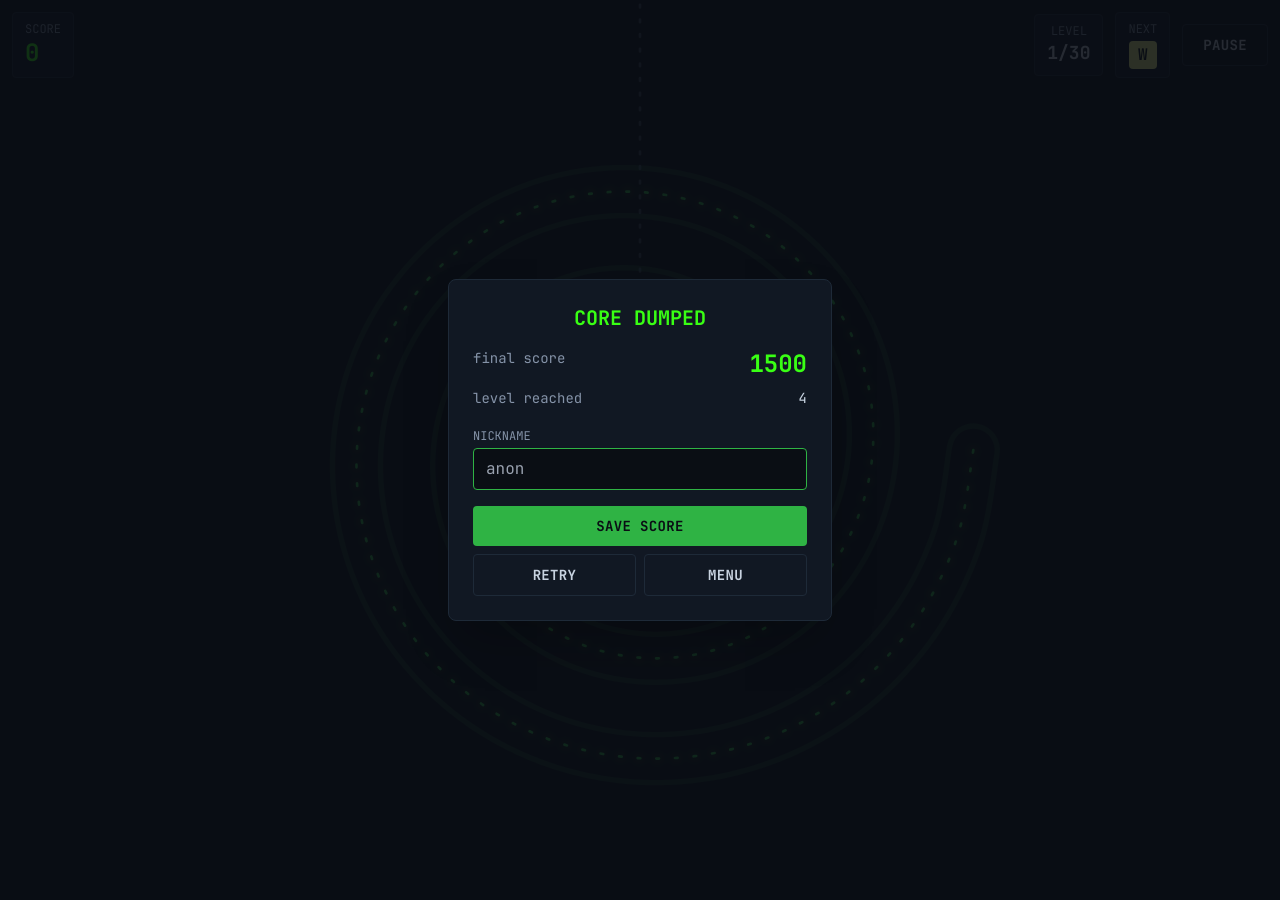
Test: GameScreen › saving the score › reports a failed save instead of pretending it worked
Type "neo" into the field labelled "nickname" at {"x": 640, "y": 469}, box [473,448,807,490]
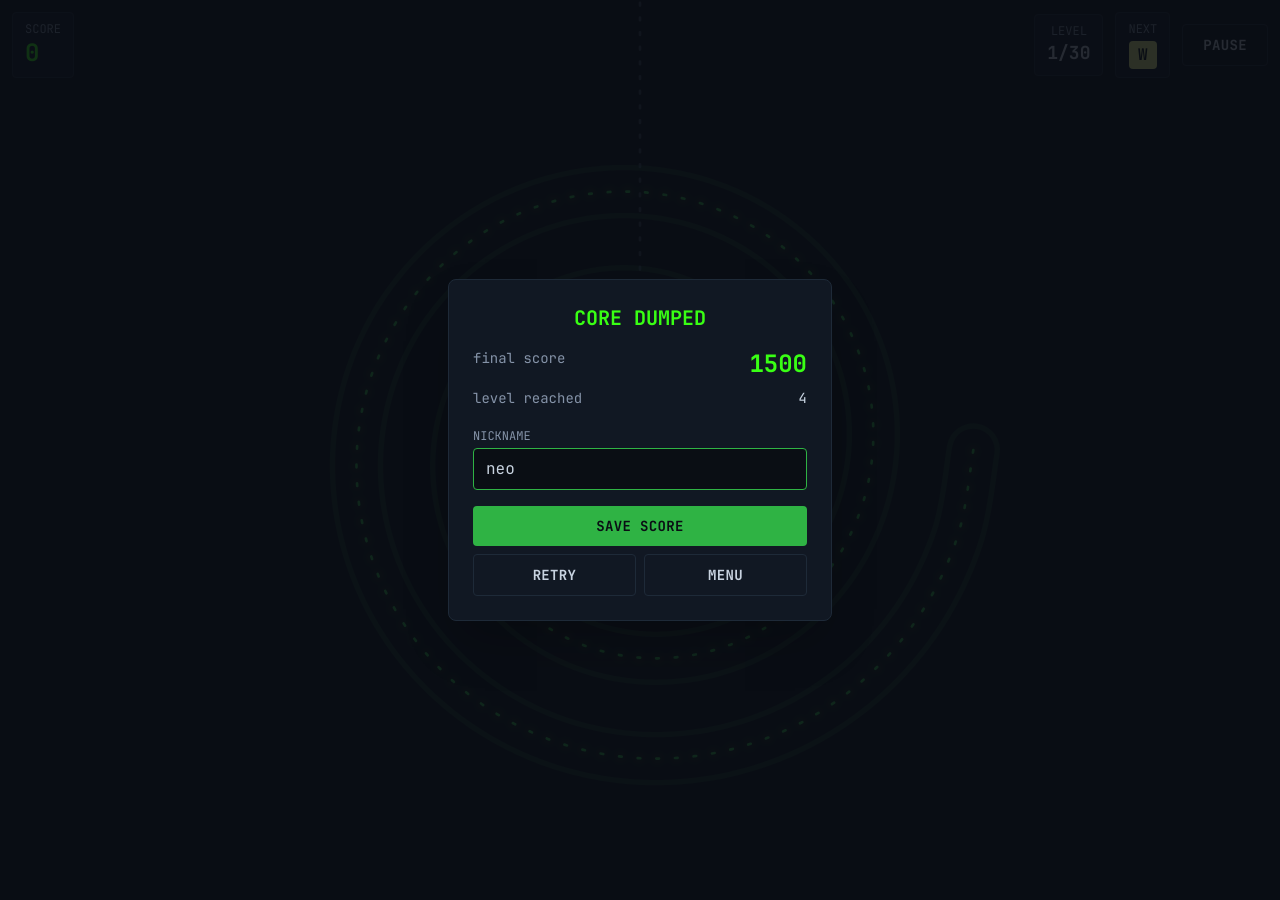
Click the button "Save score" at {"x": 640, "y": 526}, box [473,506,807,546]
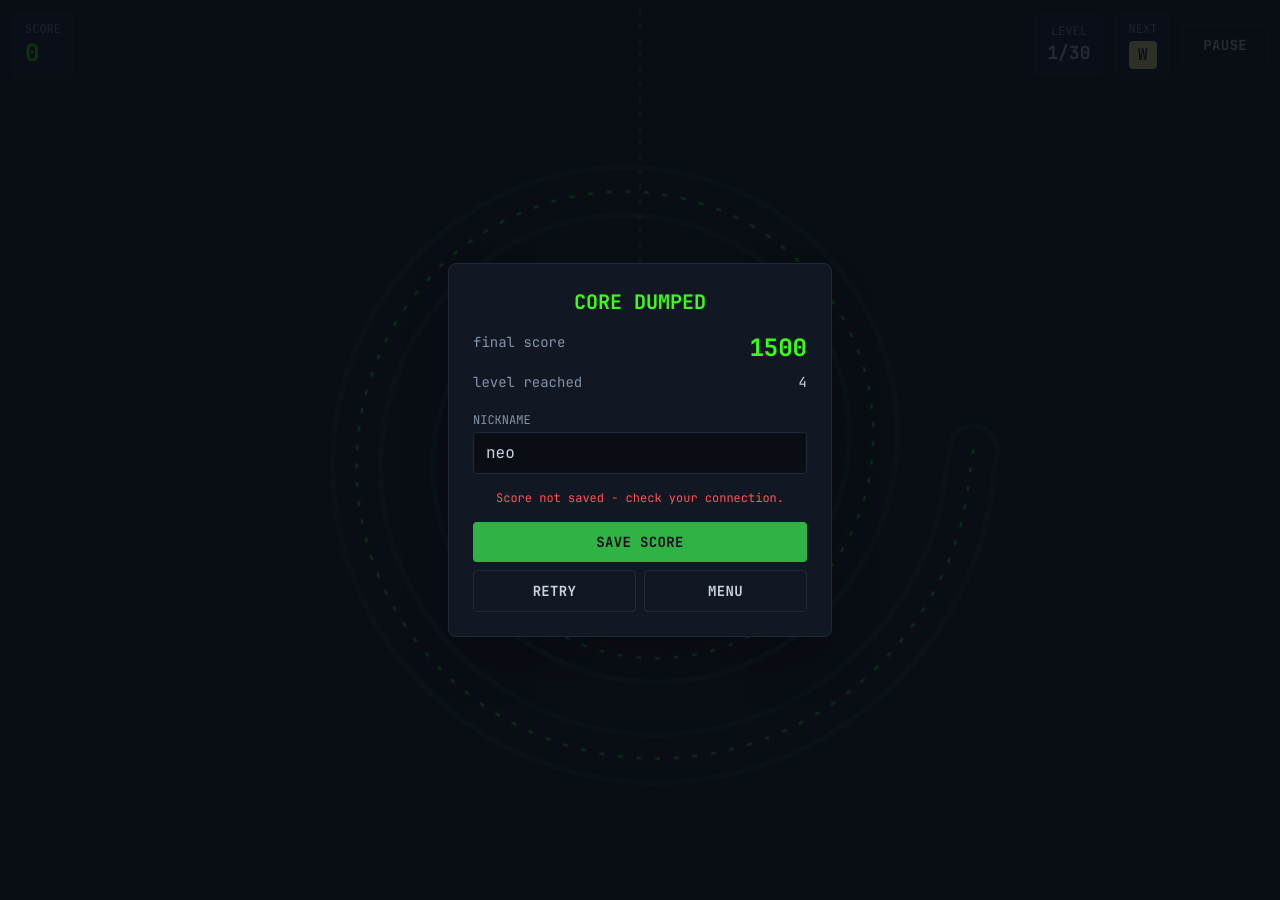
Now the text "Score not saved - check your connection." is shown, box [473,490,807,506]
